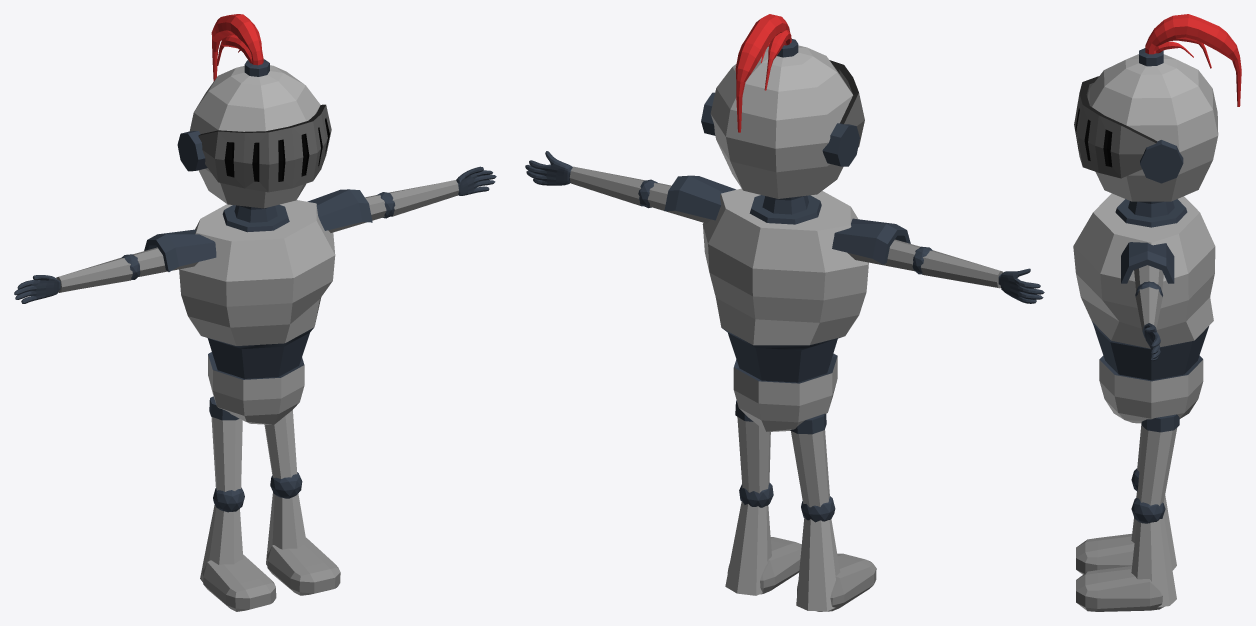
File: Knight.fbx
The picture shows the model from 3 angles, left to right: view 1: azimuth 30°, elevation 25°; view 2: azimuth 150°, elevation 25°; view 3: azimuth 270°, elevation 25°; orthographic projection. The views are drawn at different scales.
Parts seen in each view (by area): view 1: Knight; view 2: Knight; view 3: Knight.
Boxes of the visible parts, x1,y1,x2,y2 form: Knight: [14, 14, 496, 611]; Knight: [525, 14, 1044, 611]; Knight: [1073, 14, 1241, 611].
Size of the model in its own units: 1.66 by 1.8 by 0.4818.
Materials: 1 (1 with a texture image).
